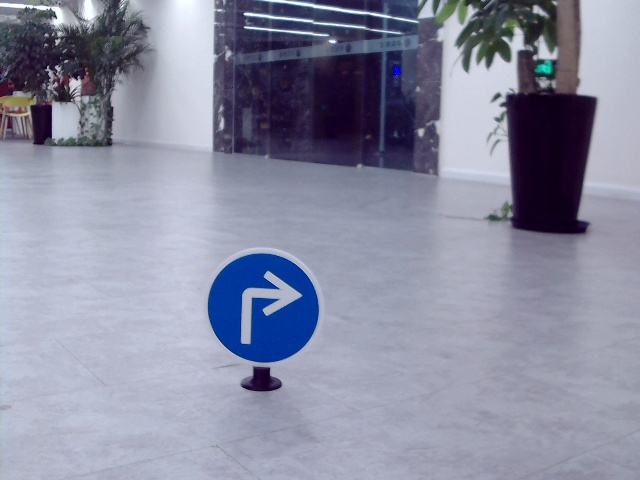turn_right: (233, 265, 305, 346)
